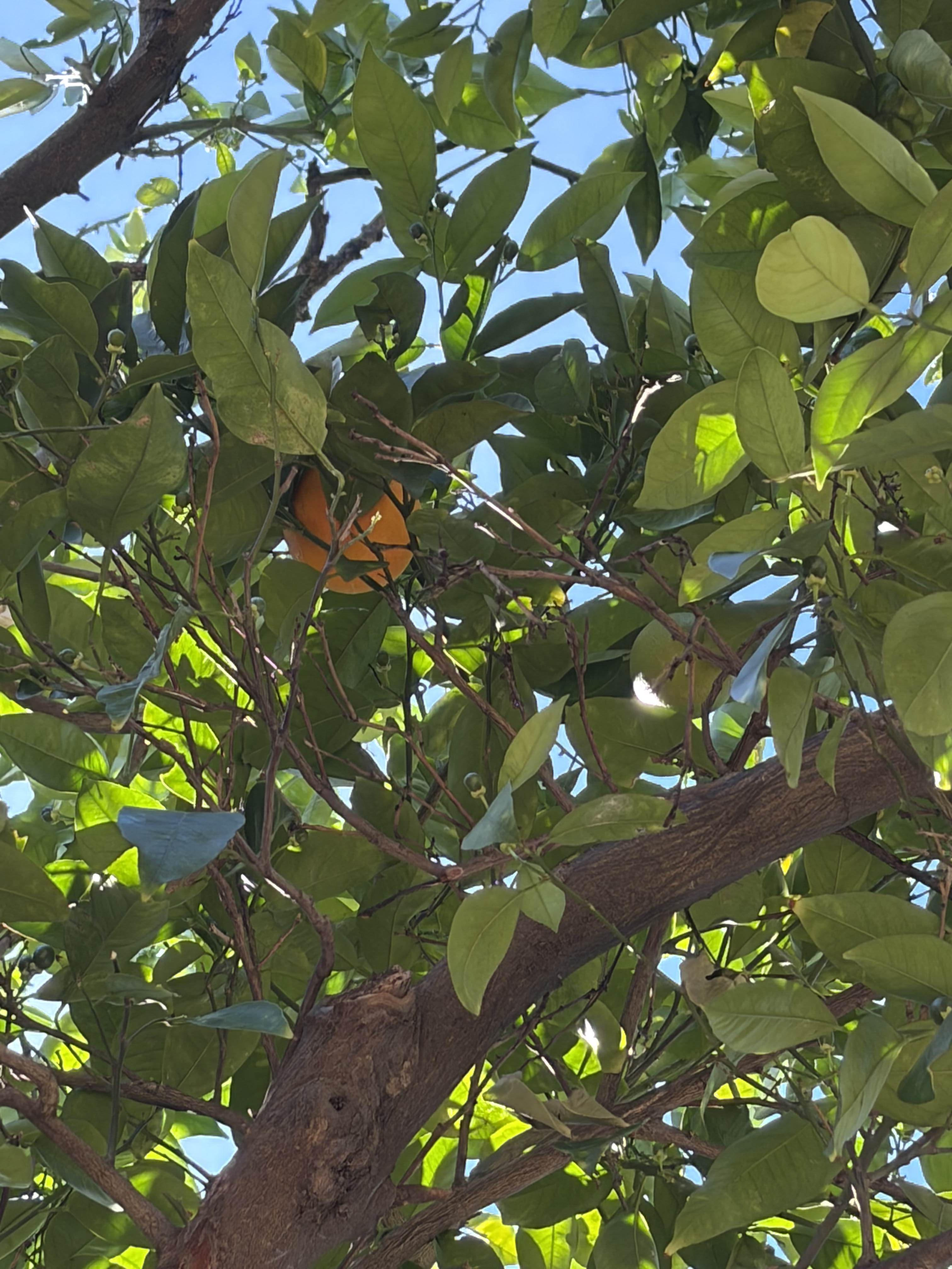orange: (283, 466, 422, 594)
